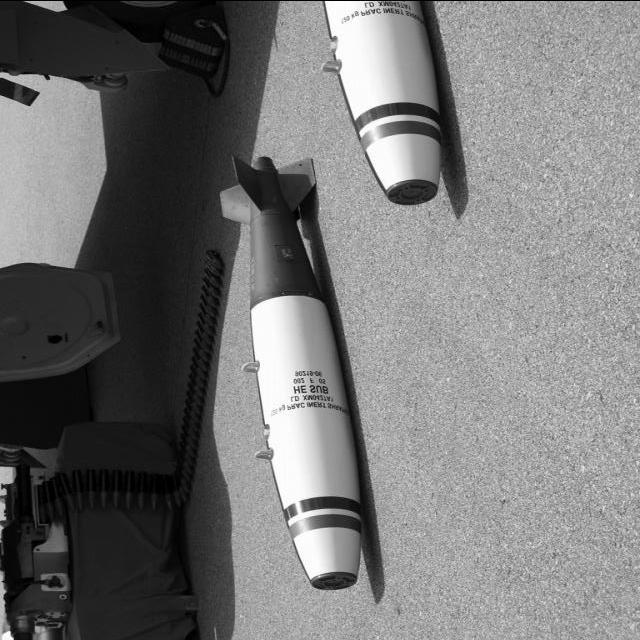missile: (219, 149, 362, 592), (318, 0, 441, 205)
